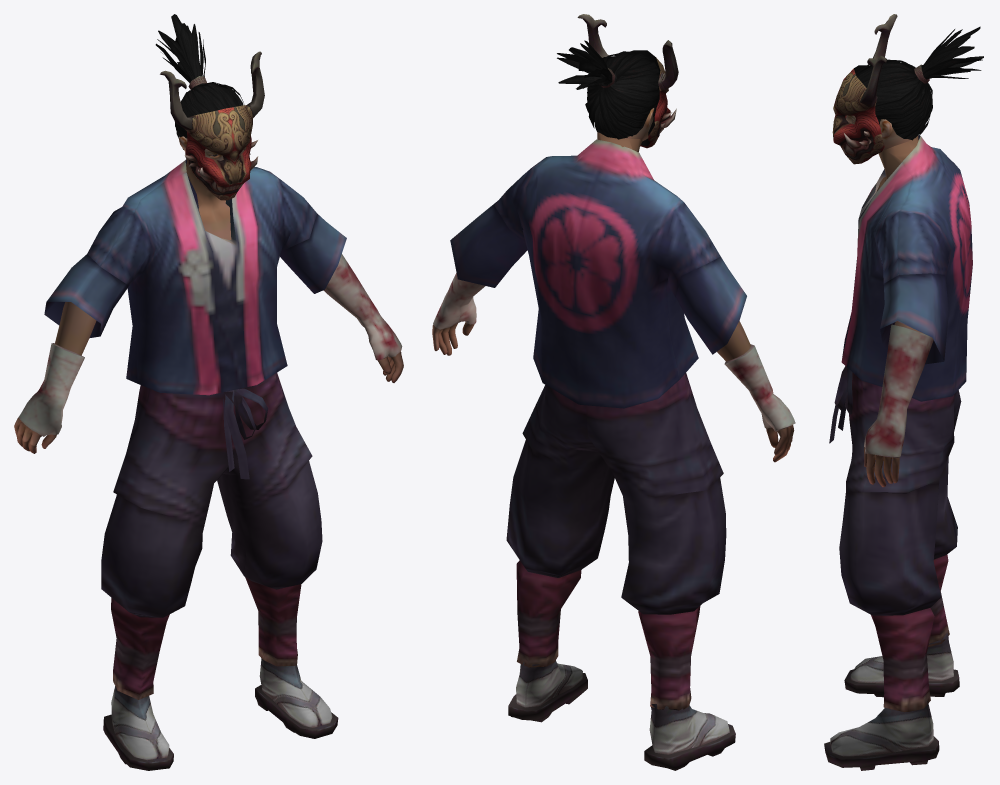
The picture shows the model from 3 angles, left to right: view 1: azimuth 30°, elevation 25°; view 2: azimuth 150°, elevation 25°; view 3: azimuth 270°, elevation 25°; orthographic projection. The views are drawn at different scales.
Visible parts, largest first — view 1: Mesh_0069.rip; view 2: Mesh_0069.rip; view 3: Mesh_0069.rip.
Boxes of the visible parts, x1,y1,x2,y2 form: Mesh_0069.rip: [14, 14, 403, 770]; Mesh_0069.rip: [432, 14, 795, 770]; Mesh_0069.rip: [824, 14, 983, 770].
Bounding box in the file's own units: 1.05 × 1.92 × 0.4014.
1 material, 1 textured.
